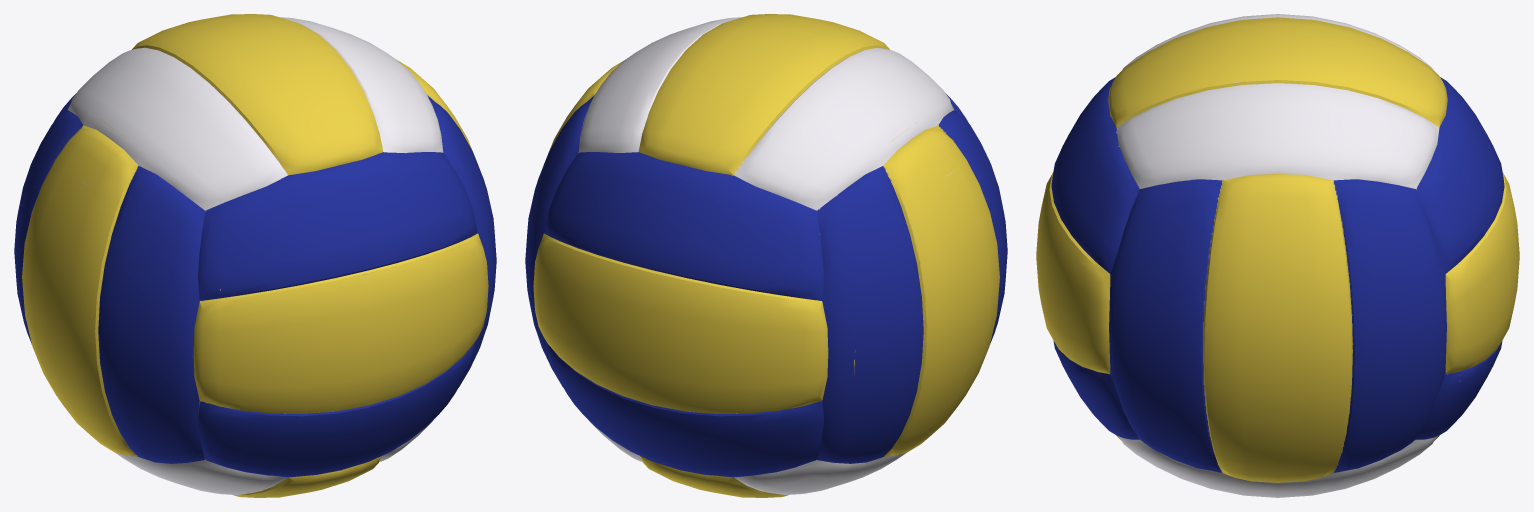
File: pelota.glb
3 renders of one model, left to right at view 1: azimuth 30°, elevation 25°; view 2: azimuth 150°, elevation 25°; view 3: azimuth 270°, elevation 25°, orthographic.
Visible parts, largest first — view 1: Volleyball; view 2: Volleyball; view 3: Volleyball.
Boxes of the visible parts, bbox=[...] form: Volleyball: bbox=[14, 14, 496, 497]; Volleyball: bbox=[525, 14, 1007, 497]; Volleyball: bbox=[1036, 14, 1519, 497].
Bounding box in the file's own units: 2.64 × 2.64 × 2.64.
1 material, 1 textured.
